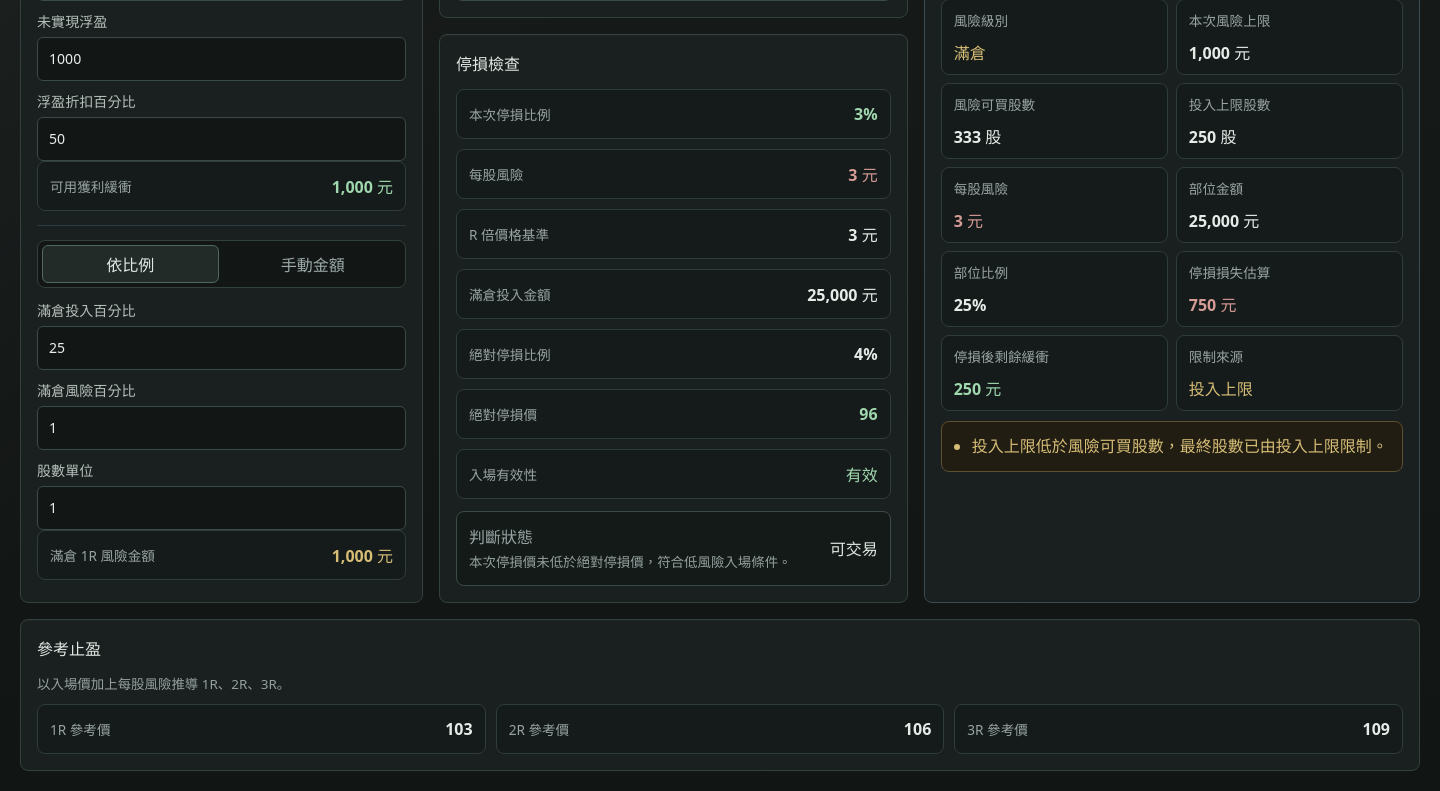
Test case: App › 最終股數為零時顯示警示
(page scrolled)
Replace the text in the number field labelled "股數單位" with "1000". click: (222, 508)
box: top-left (37, 486), bottom-right (406, 530)
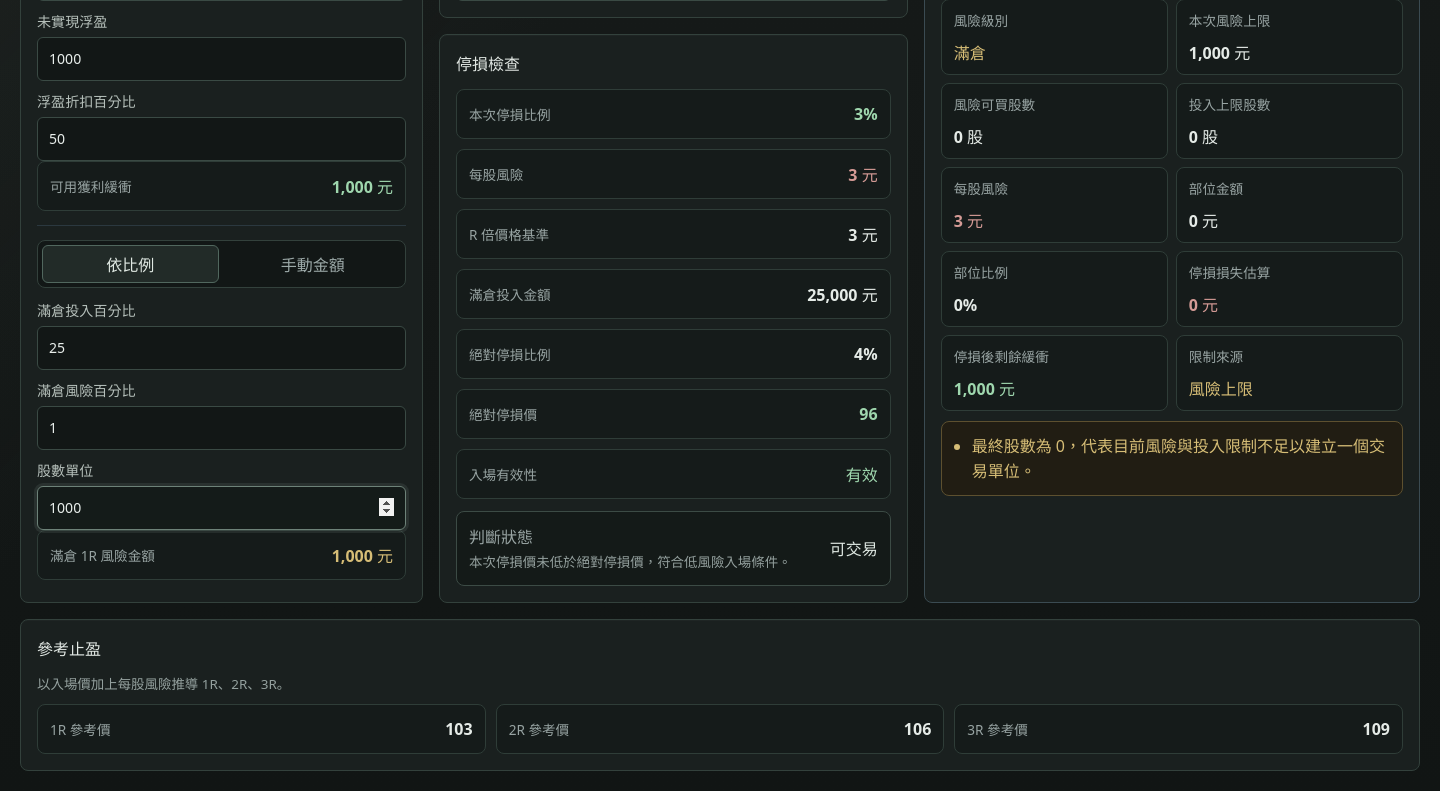
Expected: the list item "最終股數為 0，代表目前風險與投入限制不足以建立一個交易單位。" is shown, top-left (972, 434), bottom-right (1390, 484)
